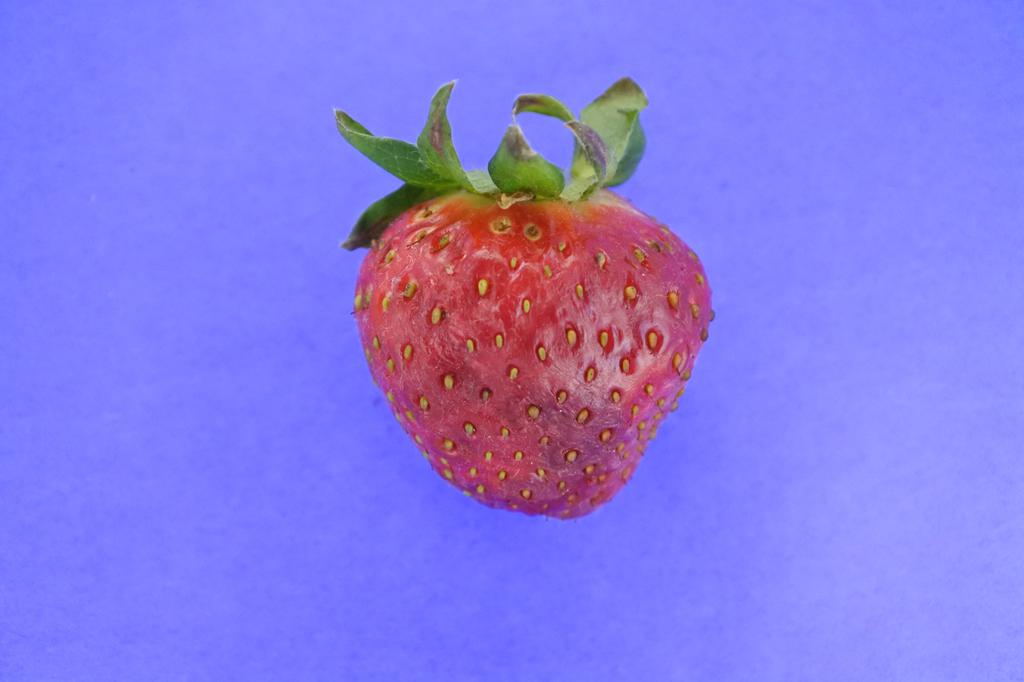red strawberry: (326, 81, 714, 525)
